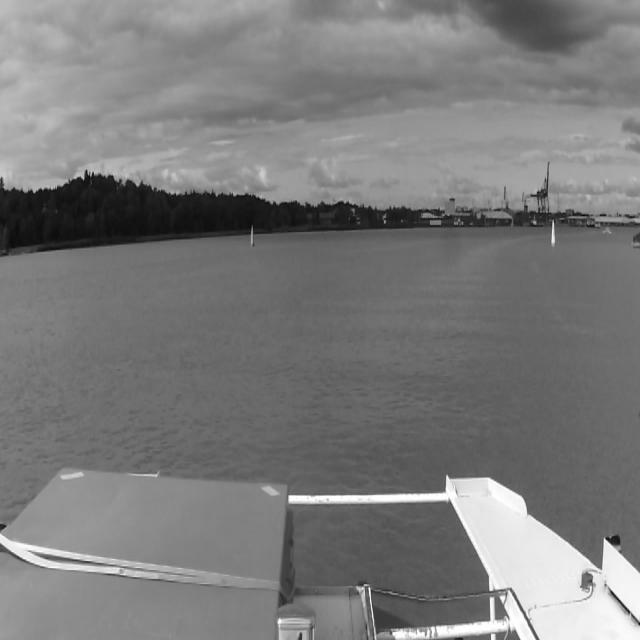buoy: (550, 220, 556, 246), (250, 225, 254, 245)
